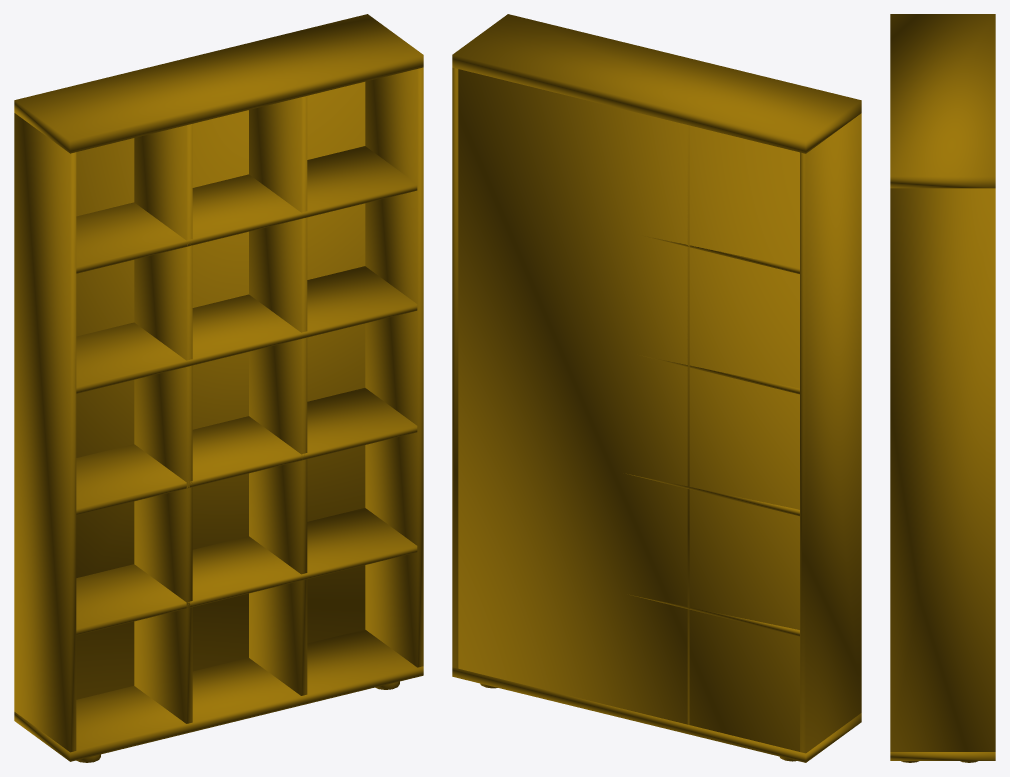
The model's file is Shelf1 fbx.fbx.
The picture shows the model from 3 angles, left to right: view 1: azimuth 30°, elevation 25°; view 2: azimuth 150°, elevation 25°; view 3: azimuth 270°, elevation 25°; orthographic projection. The views are drawn at different scales.
Visible parts, largest first — view 1: RealDWGPart; view 2: RealDWGPart; view 3: RealDWGPart.
Boxes of the visible parts, x1,y1,x2,y2 form: RealDWGPart: (14, 14, 423, 762); RealDWGPart: (452, 14, 861, 762); RealDWGPart: (890, 14, 995, 762).
Bounding box in the file's own units: 21.16 × 36.07 × 5.79.
